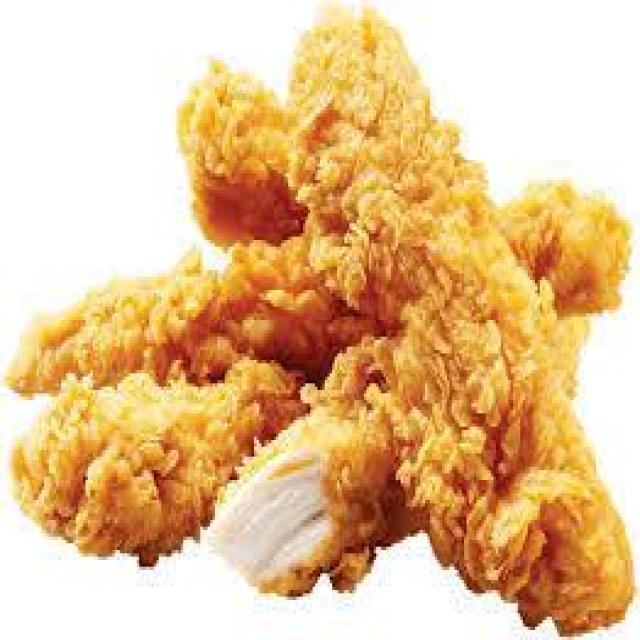Chicken -Fried Chicken-: (0, 0, 640, 640), (290, 3, 632, 637), (12, 363, 293, 570)
